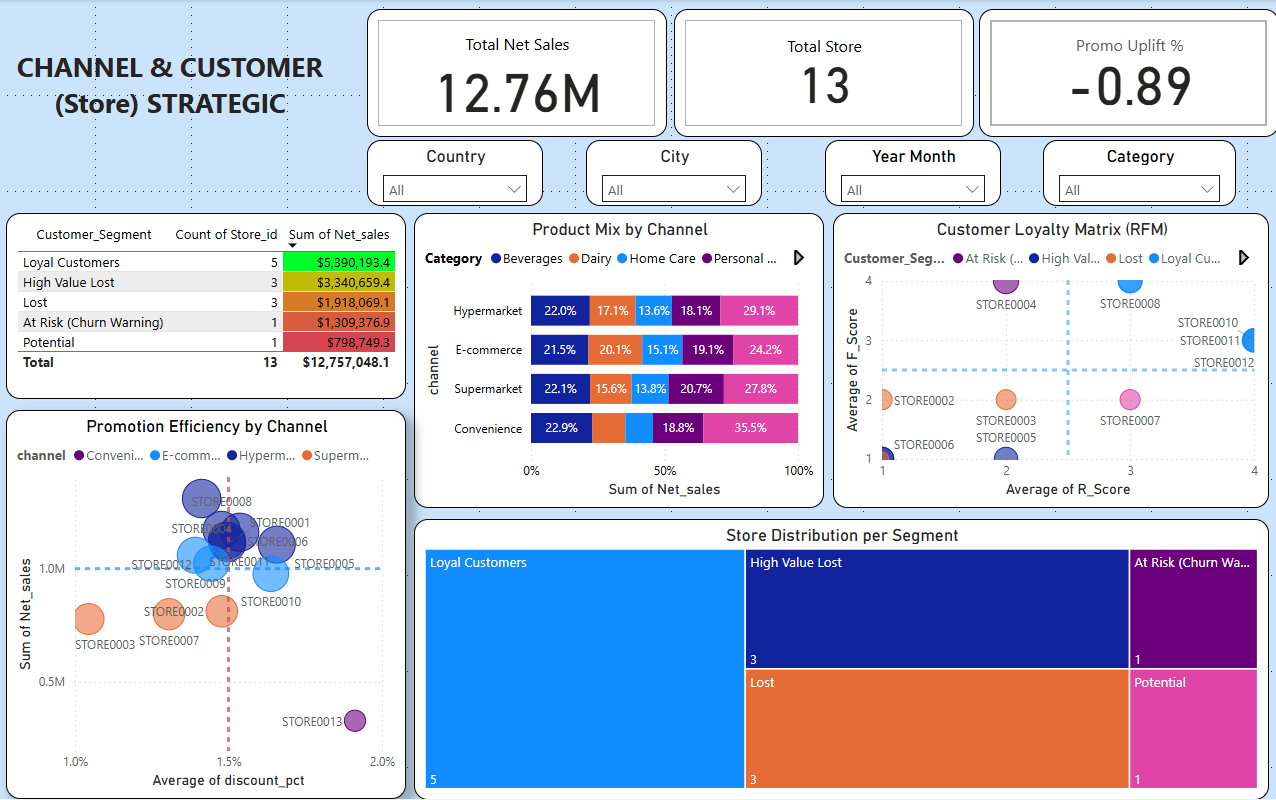

The dashboard page shown, as its layout file describes it:
{"tool":"powerbi","page":{"name":"  CHANNEL & CUSTOMER (Store) STRATEGIC","canvas":[1280,800],"ordinal":2},"visuals":[{"type":"cardVisual","fields":{"Data":["Sum(portofolio vw_enriched_sales.Net_sales)"]},"box":[368,9.6,299.7,128],"z":0},{"type":"cardVisual","fields":{"Data":["measure.Total Store"]},"box":[675.2,9.6,299.7,128],"z":1000},{"type":"cardVisual","fields":{"Data":["measure.Promo Uplift %"]},"box":[980.3,9.6,299.7,128],"z":2000},{"type":"textbox","box":[7.5,9.6,327.5,155.7],"z":3000},{"type":"slicer","title":"Category","fields":{"Values":["portofolio vw_enriched_sales.Category"]},"box":[1044.3,140.8,193.1,66.1],"z":4000},{"type":"slicer","title":"Year Month","fields":{"Values":["DateTable.Year Month"]},"box":[825.6,140.8,176,66.1],"z":5000},{"type":"slicer","title":"City","fields":{"Values":["portofolio vw_enriched_sales.city"]},"box":[586.7,140.8,176,66.1],"z":6000},{"type":"slicer","title":"Country","fields":{"Values":["portofolio vw_enriched_sales.country"]},"box":[368,140.8,176,66.1],"z":7000},{"type":"hundredPercentStackedBarChart","title":"Product Mix by Channel","fields":{"Category":["portofolio store_master.channel"],"Y":["Sum(portofolio vw_enriched_sales.Net_sales)"],"Series":["portofolio vw_enriched_sales.Category"]},"box":[415.3,213.9,410.1,295.3],"z":8000},{"type":"scatterChart","title":"Customer Loyalty Matrix (RFM)","fields":{"X":["portofolio vw_rfm_analysis.R_Score"],"Y":["portofolio vw_rfm_analysis.F_Score"],"Category":["portofolio vw_rfm_analysis.Store_id"],"Series":["portofolio vw_rfm_analysis.Customer_Segment"],"Size":["Sum(portofolio vw_enriched_sales.Net_sales)"]},"box":[833.7,213.9,436.2,295.3],"z":9000},{"type":"scatterChart","title":"Promotion Efficiency by Channel","fields":{"X":["portofolio vw_enriched_sales.discount_pct"],"Y":["Sum(portofolio vw_enriched_sales.Net_sales)"],"Series":["portofolio vw_enriched_sales.channel"],"Category":["portofolio store_master.Store_Id"],"Size":["Sum(portofolio vw_enriched_sales.Unit_sold)"]},"box":[7.3,411.1,400,389.2],"z":10000},{"type":"treemap","title":"Store Distribution per Segment","fields":{"Group":["portofolio vw_rfm_analysis.Customer_Segment"],"Values":["CountNonNull(portofolio vw_rfm_analysis.Store_id)"]},"box":[415.3,519.7,854.6,280.7],"z":11000},{"type":"tableEx","fields":{"Values":["portofolio vw_rfm_analysis.Customer_Segment","portofolio vw_rfm_analysis.Store_id","Sum(portofolio vw_enriched_sales.Net_sales)"]},"box":[7.3,213.9,400,185.7],"z":12000}]}

Visuals, with their boxes in screenshot pixels (x1, y1, x2, y2), scaled from the page's 1280x800 canvas onto the 1276x800 screenshot:
cardVisual - Sum(portofolio vw_enriched_sales.Net_sales): l=367, t=10, r=666, b=138
cardVisual - measure.Total Store: l=673, t=10, r=972, b=138
cardVisual - measure.Promo Uplift %: l=977, t=10, r=1275, b=138
textbox: l=7, t=10, r=334, b=165
"Category" slicer: l=1041, t=141, r=1234, b=207
"Year Month" slicer: l=823, t=141, r=998, b=207
"City" slicer: l=585, t=141, r=760, b=207
"Country" slicer: l=367, t=141, r=542, b=207
"Product Mix by Channel" hundredPercentStackedBarChart: l=414, t=214, r=823, b=509
"Customer Loyalty Matrix (RFM)" scatterChart: l=831, t=214, r=1266, b=509
"Promotion Efficiency by Channel" scatterChart: l=7, t=411, r=406, b=799
"Store Distribution per Segment" treemap: l=414, t=520, r=1266, b=799
tableEx - portofolio vw_rfm_analysis.Customer_Segment x portofolio vw_rfm_analysis.Store_id: l=7, t=214, r=406, b=400
